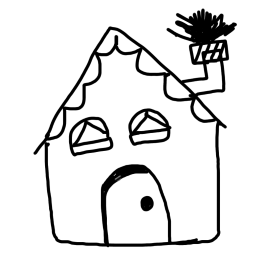door: (95, 160, 176, 252)
open_window: (64, 111, 117, 158), (123, 106, 180, 149)
roof: (24, 20, 232, 157)
smoking_chimney: (158, 8, 242, 105)
wall: (30, 119, 231, 251)
